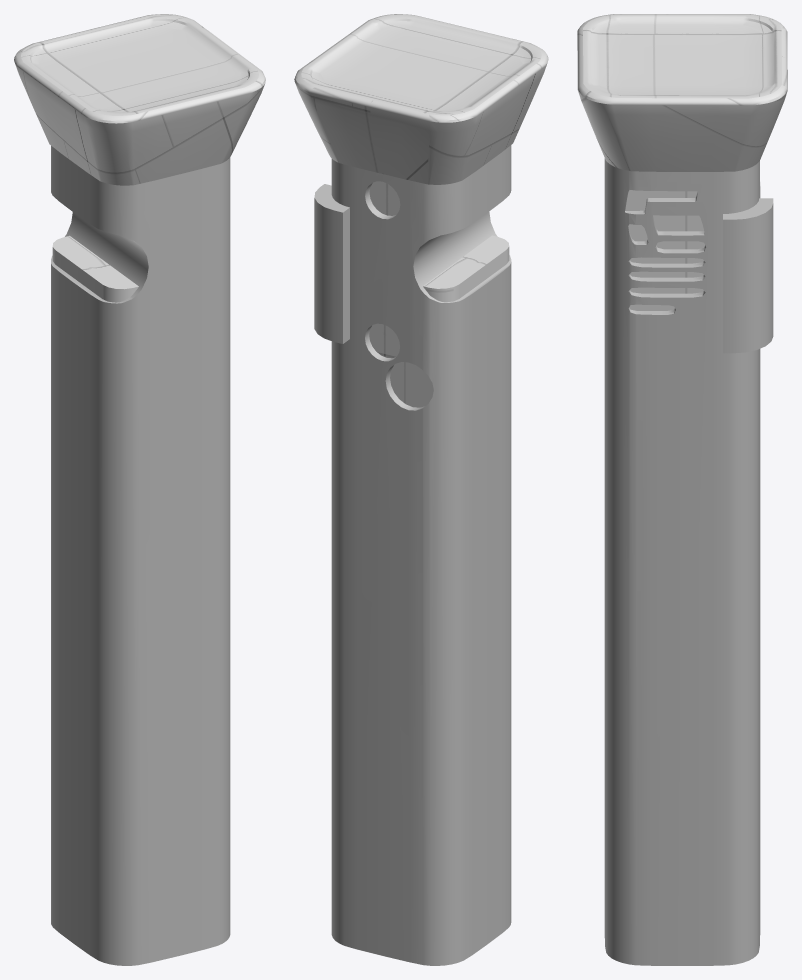
File: ikamoon12138.fbx
3 views of the same model, side by side, from view 1: azimuth 30°, elevation 25°; view 2: azimuth 150°, elevation 25°; view 3: azimuth 270°, elevation 25° (orthographic).
Parts seen in each view (by area): view 1: Base, TopBanner; view 2: Base, TopBanner, banner; view 3: Base, TopBanner, banner.
Part boxes in pixels (x1,y1,x2,y2): Base: (21, 14, 258, 965); TopBanner: (14, 14, 265, 185); Base: (301, 14, 541, 965); TopBanner: (294, 14, 548, 184); banner: (314, 198, 342, 343); Base: (583, 14, 781, 965); TopBanner: (577, 14, 787, 171); banner: (723, 203, 773, 353).
Bounding box in the file's own units: 5638 × 25899 × 5629.
